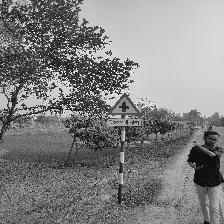Crossroad: (106, 91, 143, 129)
